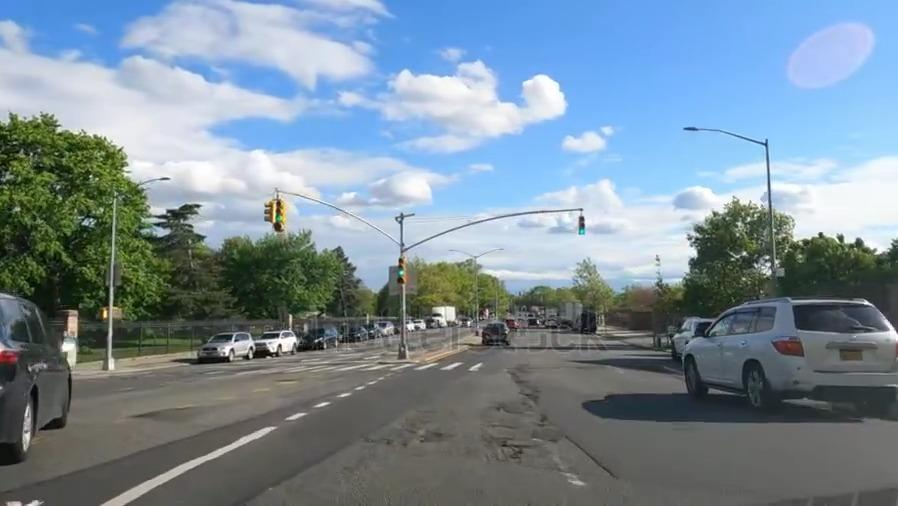car: (689, 300, 898, 413), (0, 287, 73, 455), (196, 328, 256, 362), (670, 315, 707, 354), (254, 327, 292, 356), (303, 325, 339, 350), (478, 322, 513, 347)
pedestrian: (228, 353, 492, 382)
person: (665, 321, 676, 335)
pothole: (406, 420, 449, 450)
road damage: (501, 416, 619, 485), (504, 366, 543, 415)
traffic light: (261, 191, 288, 234), (394, 253, 411, 297), (573, 210, 590, 238)
wheel: (741, 357, 774, 408)
